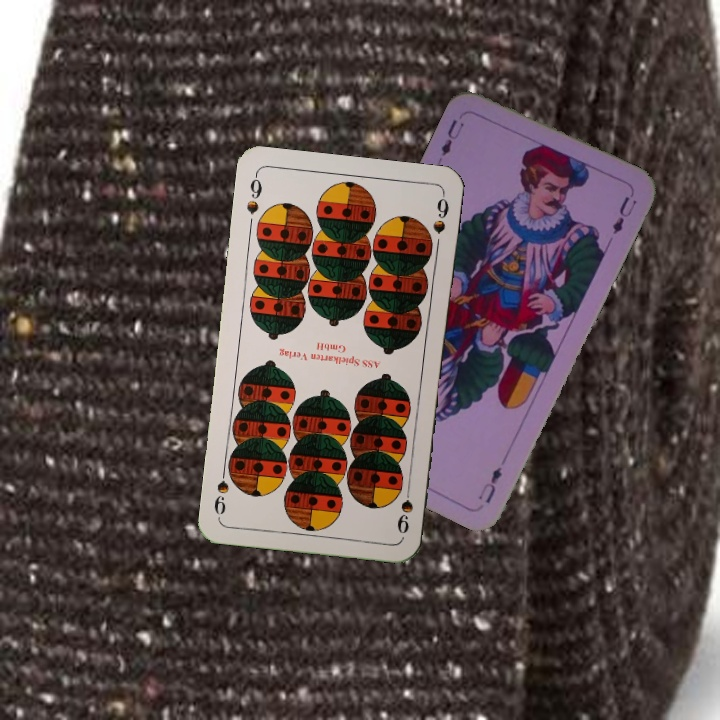EU: (474, 462, 505, 506), (437, 115, 467, 159)
S9: (393, 479, 416, 537), (242, 170, 265, 217)
